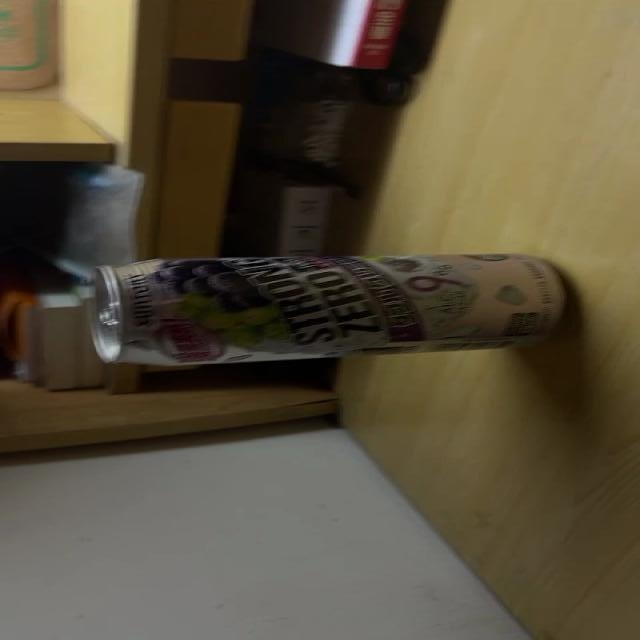Liquor: (82, 250, 574, 368)
